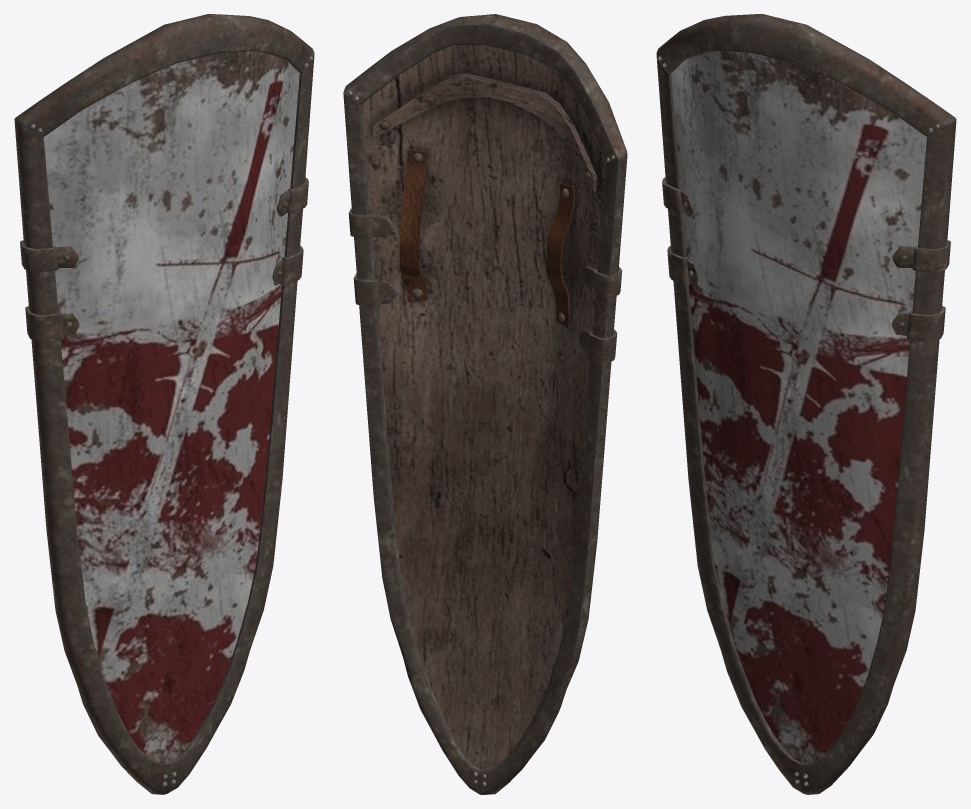
Rendered from kite_shield.glb.
3 views of the same model, side by side, from view 1: azimuth 30°, elevation 25°; view 2: azimuth 150°, elevation 25°; view 3: azimuth 330°, elevation 25° (orthographic). The views are drawn at different scales.
Visible parts, largest first — view 1: kite_shield_body, kite_shield_clamps_and_trim; view 2: kite_shield_body, kite_shield_clamps_and_trim; view 3: kite_shield_body, kite_shield_clamps_and_trim.
Boxes of the visible parts, x1,y1,x2,y2 form: kite_shield_body: (43, 51, 299, 763); kite_shield_clamps_and_trim: (14, 14, 314, 794); kite_shield_body: (361, 45, 606, 770); kite_shield_clamps_and_trim: (343, 14, 627, 794); kite_shield_body: (671, 51, 927, 763); kite_shield_clamps_and_trim: (656, 14, 956, 794).
Bounding box in the file's own units: 0.5432 × 1.39 × 0.1347.
2 materials, 2 textured.
